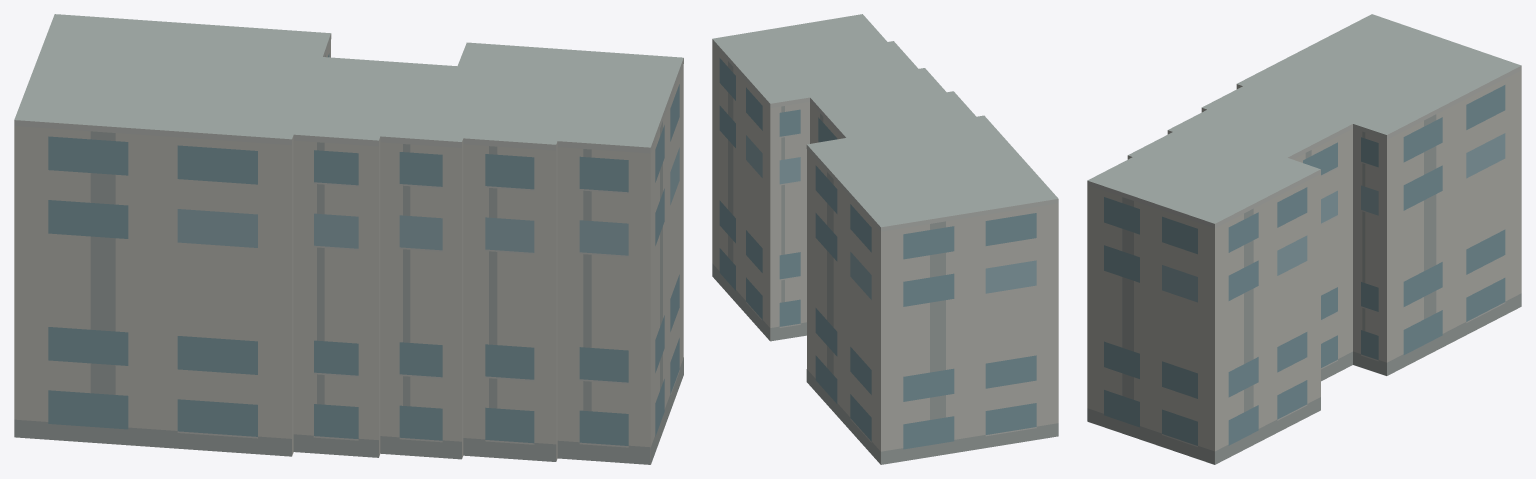
Rendered from survey-upis-32807766.glb.
3 renders of one model, left to right at view 1: azimuth 30°, elevation 25°; view 2: azimuth 150°, elevation 25°; view 3: azimuth 270°, elevation 25°, orthographic. The views are drawn at different scales.
Visible parts, largest first — view 1: survey-upis-32807766.tmp; view 2: survey-upis-32807766.tmp; view 3: survey-upis-32807766.tmp.
Boxes of the visible parts, x1,y1,x2,y2 form: survey-upis-32807766.tmp: (14, 14, 683, 464); survey-upis-32807766.tmp: (712, 14, 1058, 464); survey-upis-32807766.tmp: (1087, 14, 1521, 464).
Bounding box in the file's own units: 24.1 × 12.9 × 21.08.
